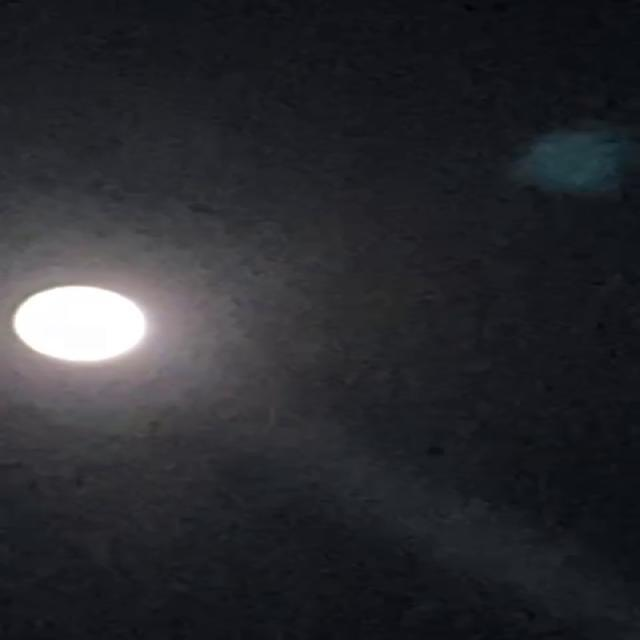moon: (0, 273, 184, 368)
